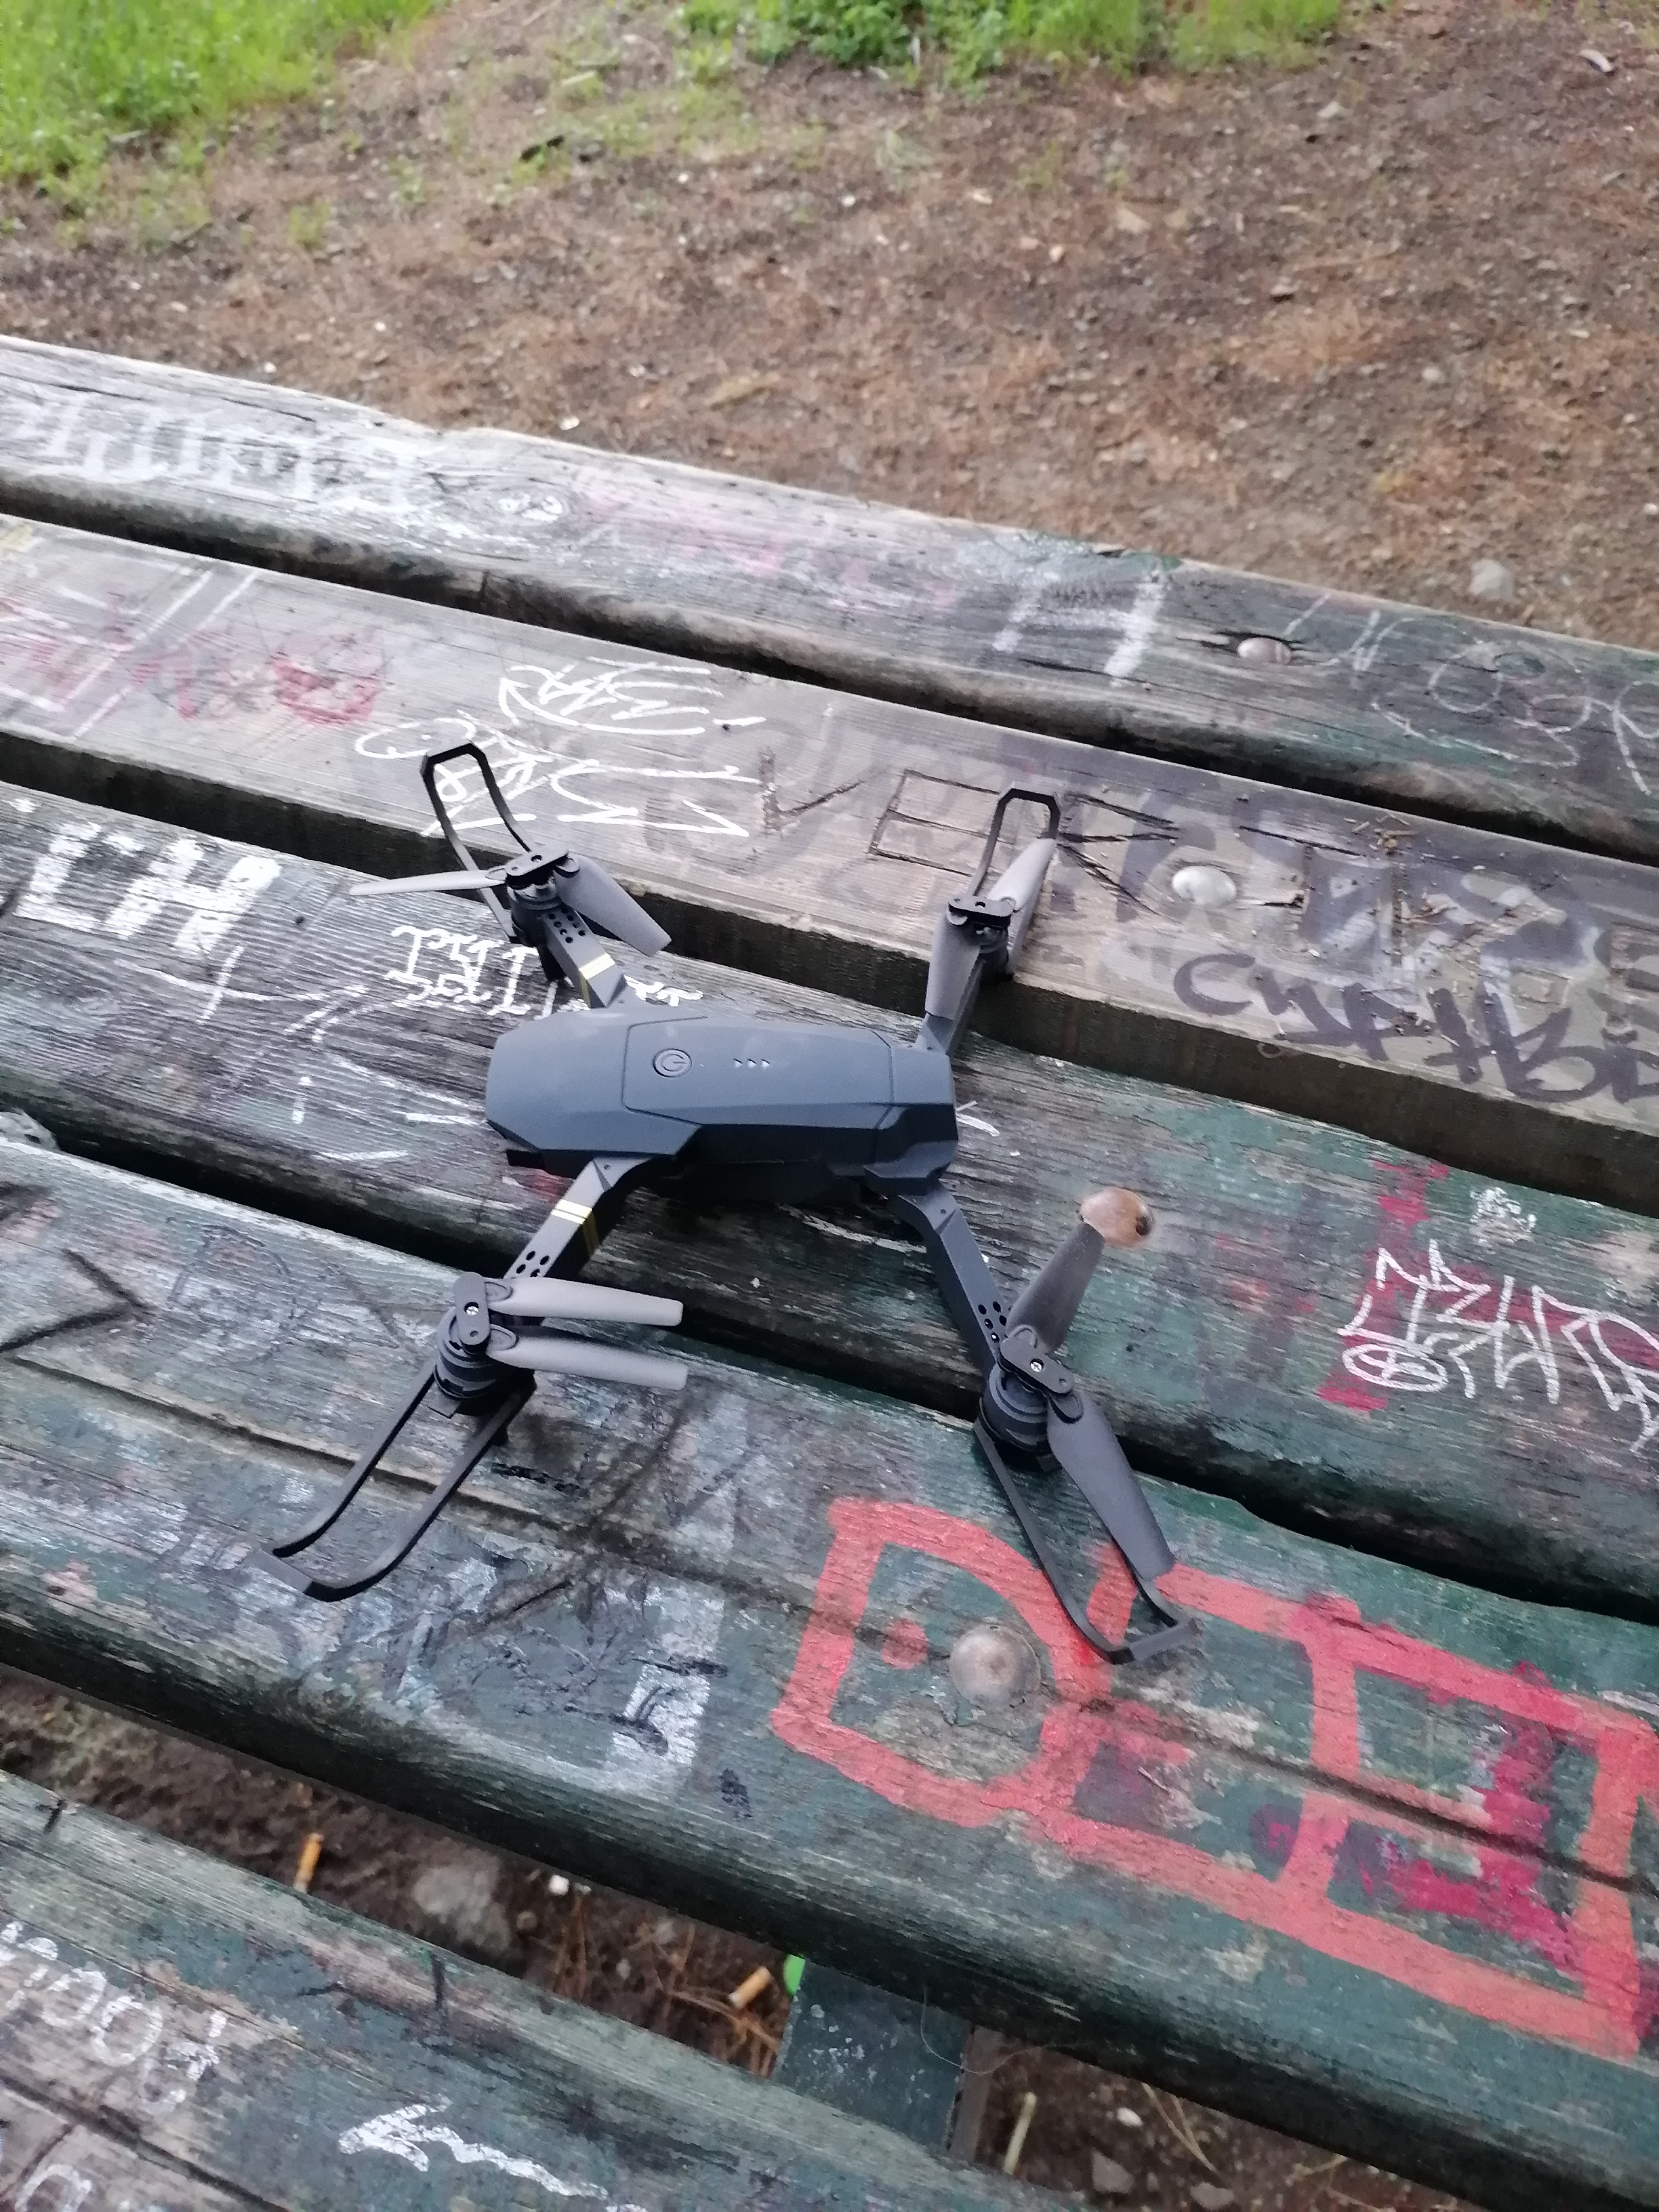drone: (319, 702, 1213, 1683)
